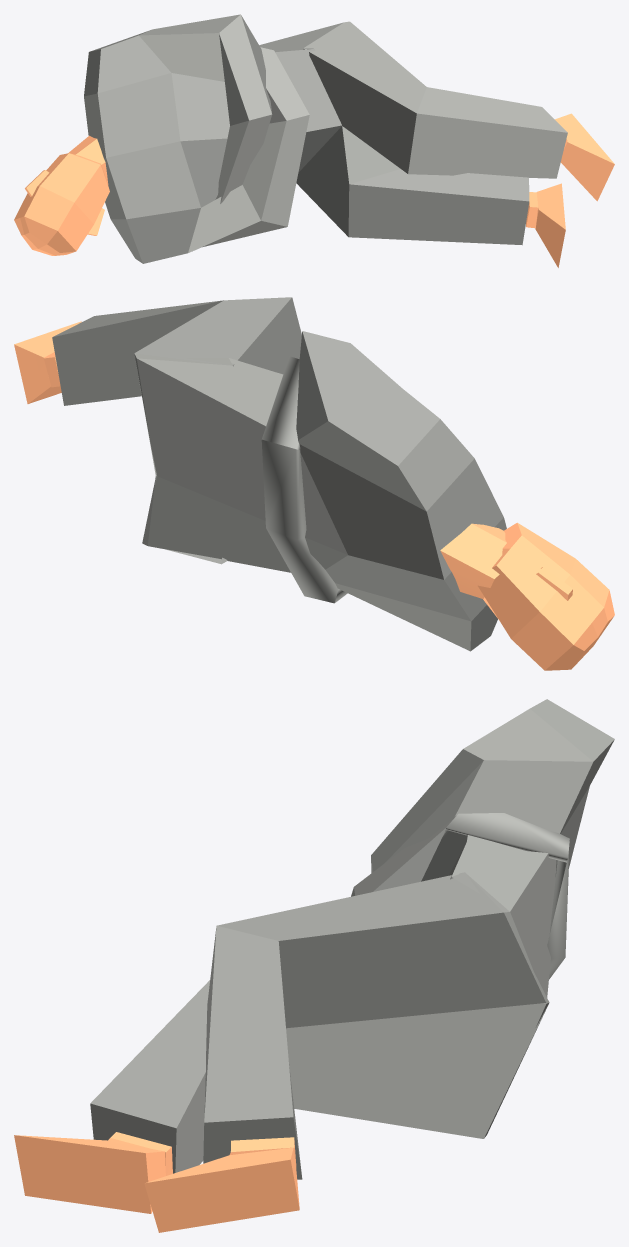
The model's file is mentalAsylumPatient2.fbx.
3 renders of one model, top to bottom at view 1: azimuth 30°, elevation 25°; view 2: azimuth 150°, elevation 25°; view 3: azimuth 270°, elevation 25°, orthographic. The views are drawn at different scales.
Parts seen in each view (by area): view 1: man_03; view 2: man_03; view 3: man_03.
Boxes of the visible parts, bbox=[...] form: man_03: bbox=[14, 14, 614, 267]; man_03: bbox=[14, 297, 614, 670]; man_03: bbox=[14, 699, 614, 1232].
Bounding box in the file's own units: 535 × 221 × 360.
